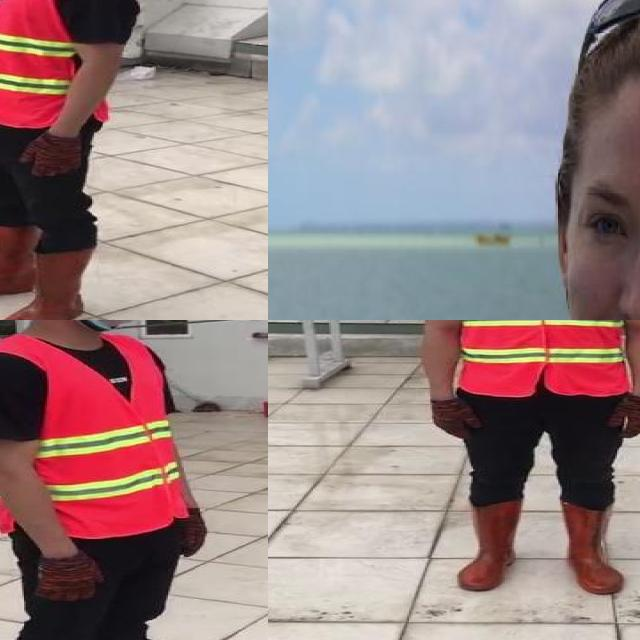No_Glasses: (560, 169, 640, 293)
boots: (556, 500, 628, 594), (0, 248, 90, 320), (458, 502, 516, 593), (0, 222, 42, 304)
face_nomask: (560, 161, 640, 320)
glasses: (571, 0, 640, 80)
hand_glove: (34, 553, 106, 605), (19, 133, 83, 177), (429, 398, 480, 439), (608, 396, 640, 437)
person: (0, 320, 241, 640), (412, 320, 640, 605), (481, 0, 640, 320), (0, 0, 144, 320)
vest: (0, 333, 187, 536), (0, 0, 117, 128), (444, 320, 627, 396)
